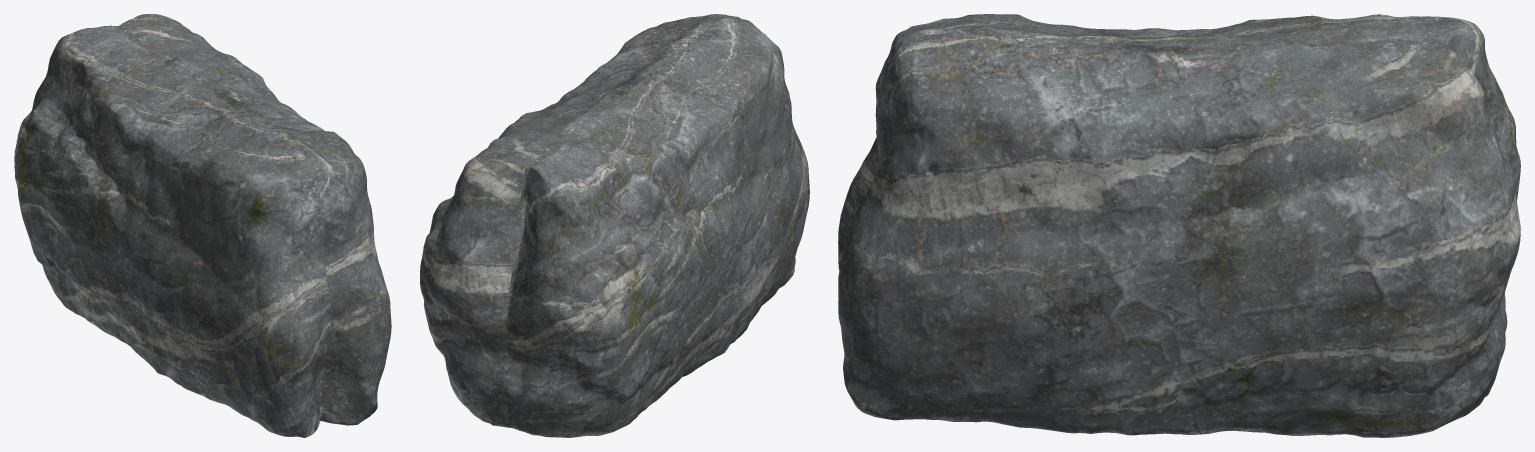
The model's file is SM_Cliff_03.fbx.
3 views of the same model, side by side, from view 1: azimuth 30°, elevation 25°; view 2: azimuth 150°, elevation 25°; view 3: azimuth 270°, elevation 25° (orthographic). The views are drawn at different scales.
Visible parts, largest first — view 1: SM_Cliff_03_LOD0; view 2: SM_Cliff_03_LOD0; view 3: SM_Cliff_03_LOD0.
Part boxes in pixels (x1=…): SM_Cliff_03_LOD0: x1=14, y1=14, x2=391, y2=437; SM_Cliff_03_LOD0: x1=420, y1=14, x2=809, y2=437; SM_Cliff_03_LOD0: x1=838, y1=14, x2=1520, y2=437.
Size of the model in its own units: 406 by 842 by 494.
Materials: 1 (1 with a texture image).
